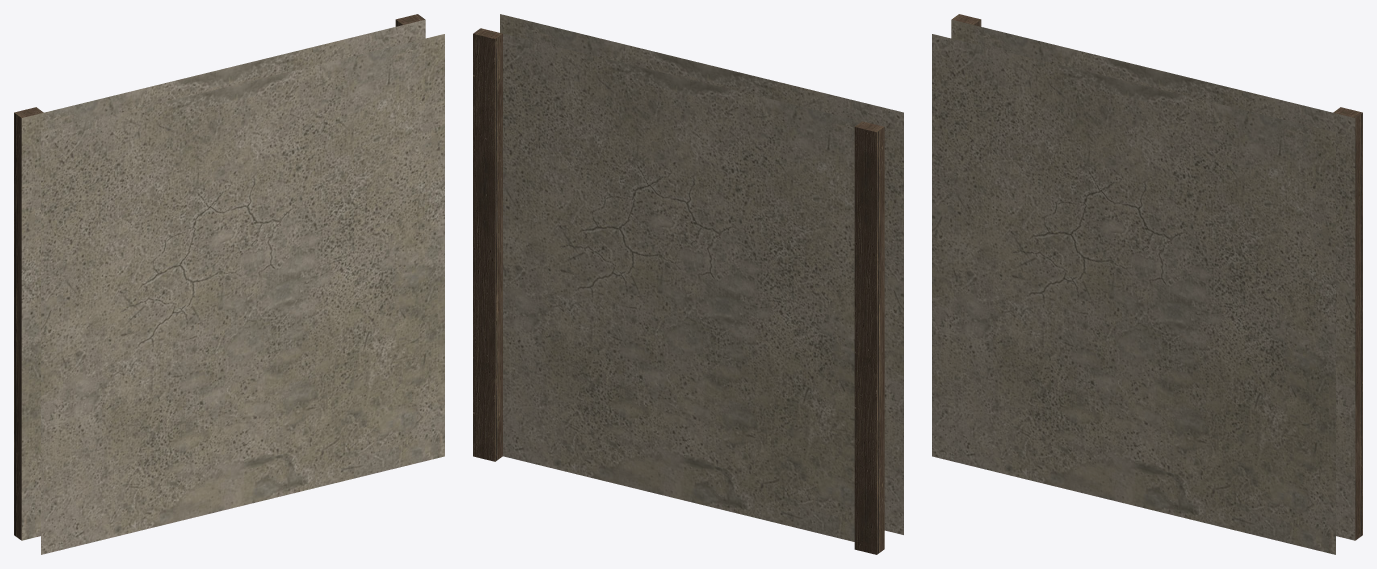
The model's file is ARC1010258.fbx.
3 renders of one model, left to right at view 1: azimuth 30°, elevation 25°; view 2: azimuth 150°, elevation 25°; view 3: azimuth 330°, elevation 25°, orthographic.
Visible parts, largest first — view 1: smARC1010258; view 2: smARC1010258; view 3: smARC1010258.
Part boxes in pixels (x1,y1,x2,y2): smARC1010258: (14,14,444,554); smARC1010258: (473,14,903,554); smARC1010258: (932,14,1362,554).
Bounding box in the file's own units: 268 × 268 × 31.1.
1 material, 1 textured.
